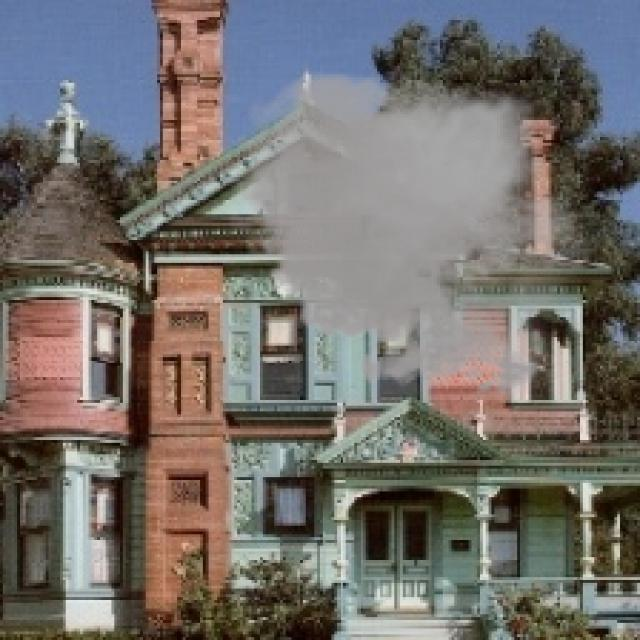Smoke: (220, 60, 600, 406)
